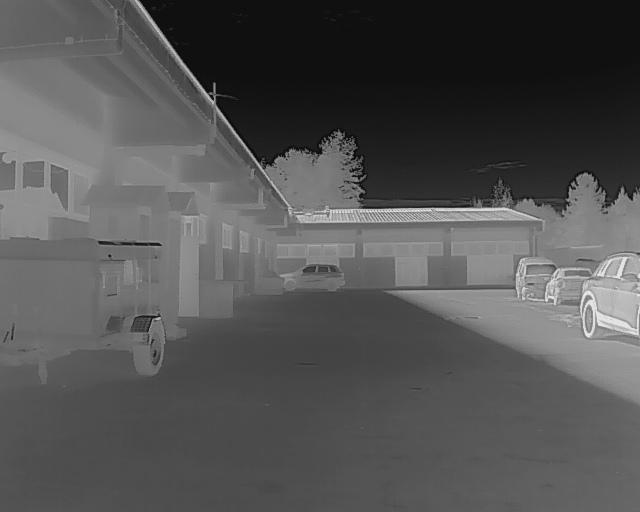drone: (273, 195, 343, 229)
